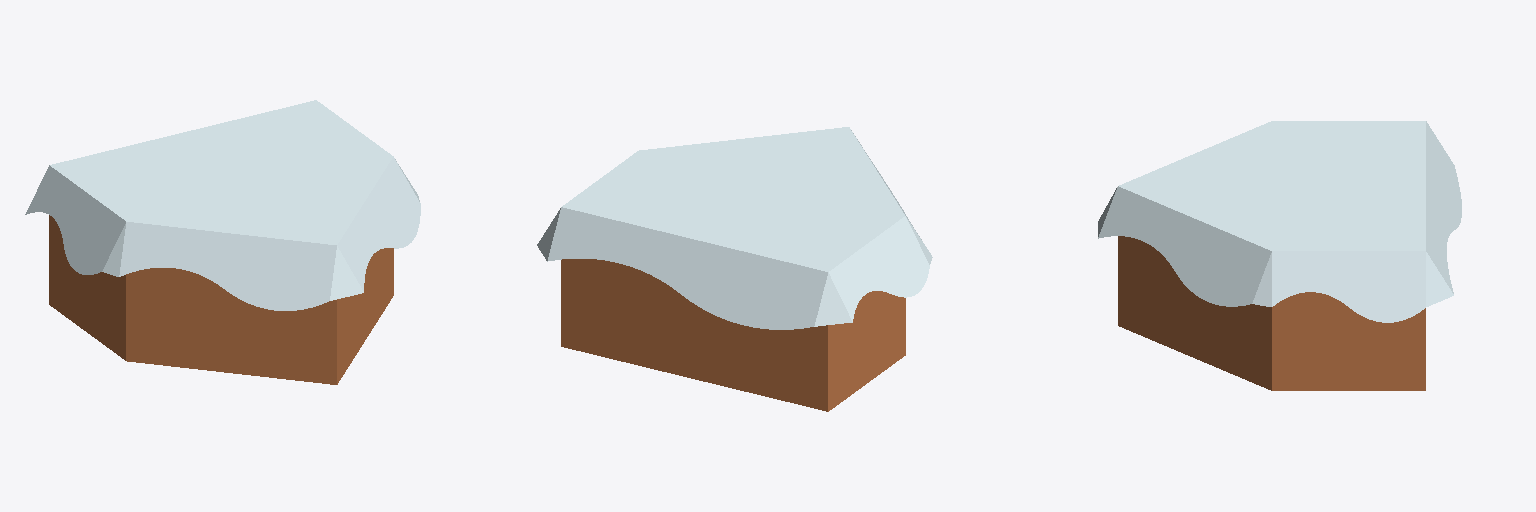
The model's file is blockSnowEnd.obj.
3 renders of one model, left to right at view 1: azimuth 30°, elevation 25°; view 2: azimuth 150°, elevation 25°; view 3: azimuth 270°, elevation 25°, orthographic.
Parts seen in each view (by area): view 1: blockSnowEnd; view 2: blockSnowEnd; view 3: blockSnowEnd.
Part boxes in pixels (left/top/right/bottom): blockSnowEnd: left=25, top=100, right=420, bottom=384; blockSnowEnd: left=537, top=127, right=932, bottom=411; blockSnowEnd: left=1098, top=121, right=1461, bottom=390.
Size of the model in its own units: 1.23 by 0.5 by 1.18.